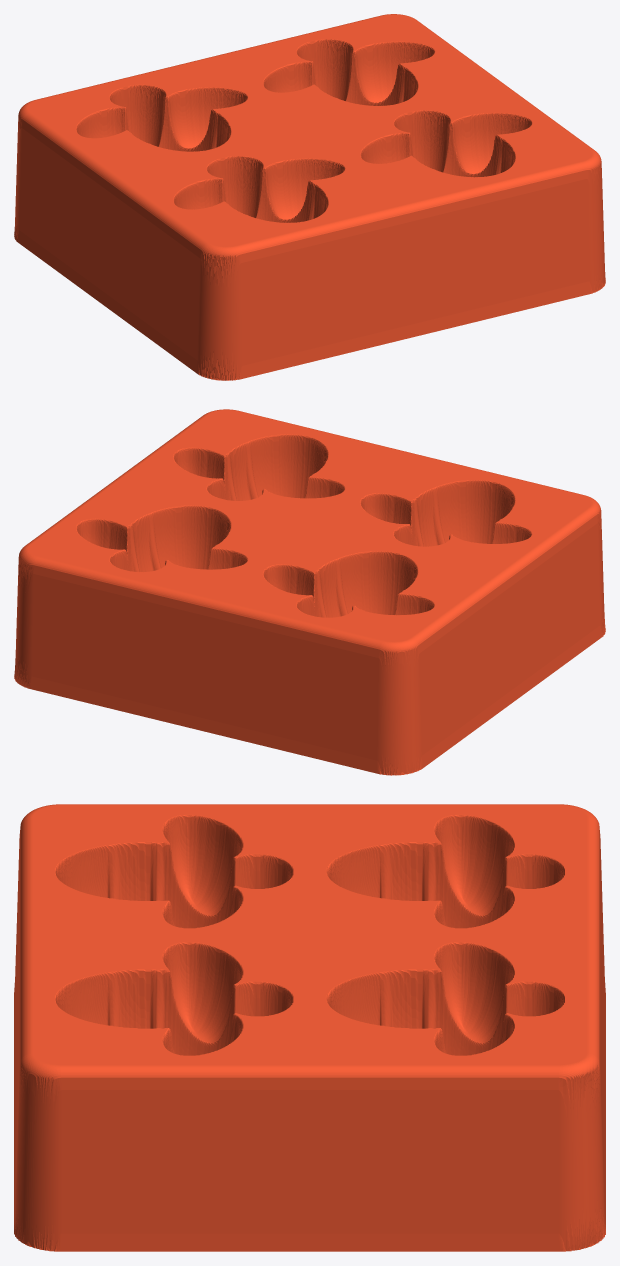
Rendered from mold.glb.
The picture shows the model from 3 angles, top to bottom: view 1: azimuth 30°, elevation 25°; view 2: azimuth 150°, elevation 25°; view 3: azimuth 270°, elevation 25°; orthographic projection. The views are drawn at different scales.
Visible parts, largest first — view 1: geometry_0; view 2: geometry_0; view 3: geometry_0.
Part boxes in pixels (left/top/right/bottom): geometry_0: left=14, top=14, right=605, bottom=380; geometry_0: left=14, top=409, right=605, bottom=775; geometry_0: left=14, top=804, right=605, bottom=1251.
Size of the model in its own units: 0.1248 by 0.0377 by 0.1133.
